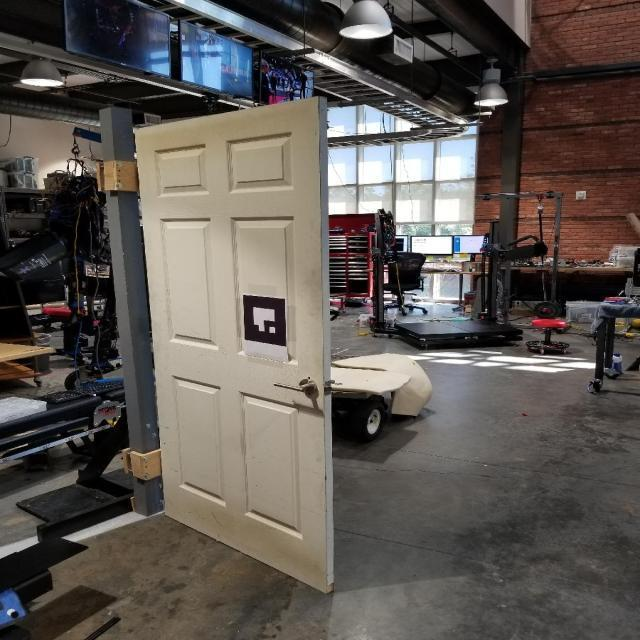door: (131, 93, 338, 594), (270, 376, 324, 399)
